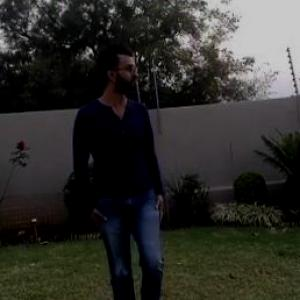follow: (72, 38, 175, 299)
